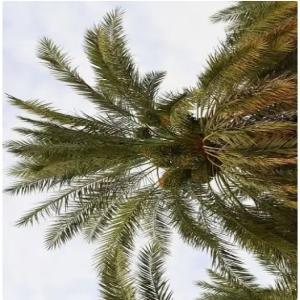palm tree: (2, 2, 296, 299)
